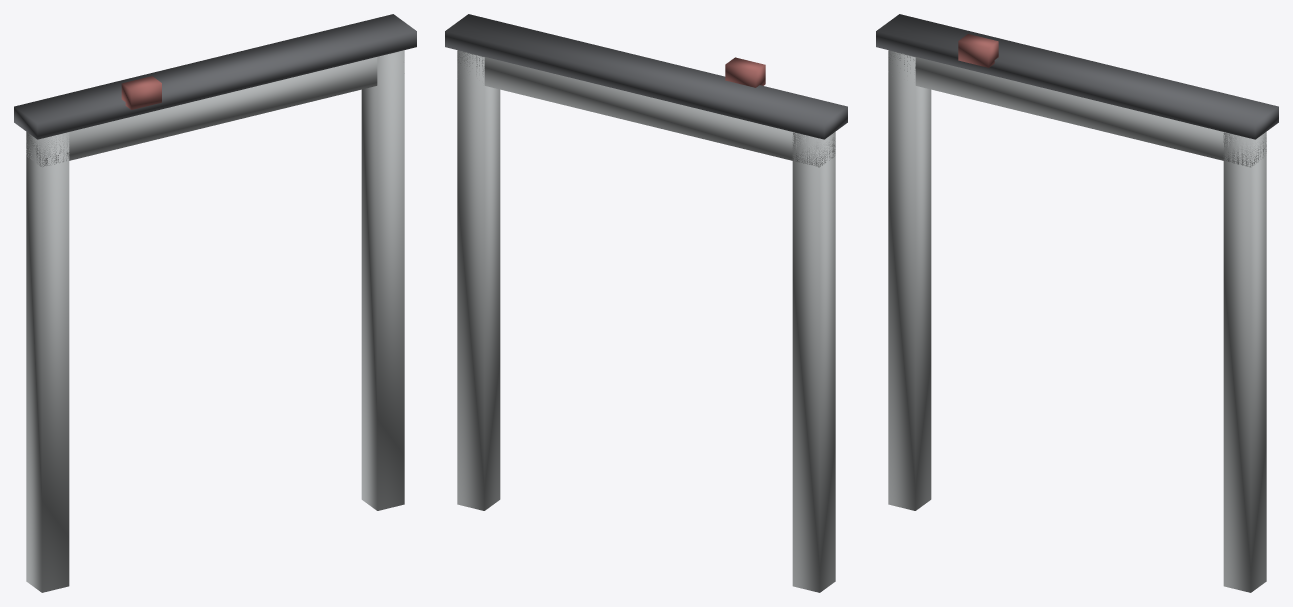
The model's file is doorway_fire_rated_w182_h240_d16.glb.
The picture shows the model from 3 angles, left to right: view 1: azimuth 30°, elevation 25°; view 2: azimuth 150°, elevation 25°; view 3: azimuth 330°, elevation 25°; orthographic projection.
Parts seen in each view (by area): view 1: world; view 2: world; view 3: world.
Boxes of the visible parts, x1=… form: world: x1=14, y1=14, x2=416, y2=592; world: x1=445, y1=14, x2=847, y2=592; world: x1=876, y1=14, x2=1278, y2=592.
Size of the model in its own units: 2.24 by 2.77 by 0.3.
